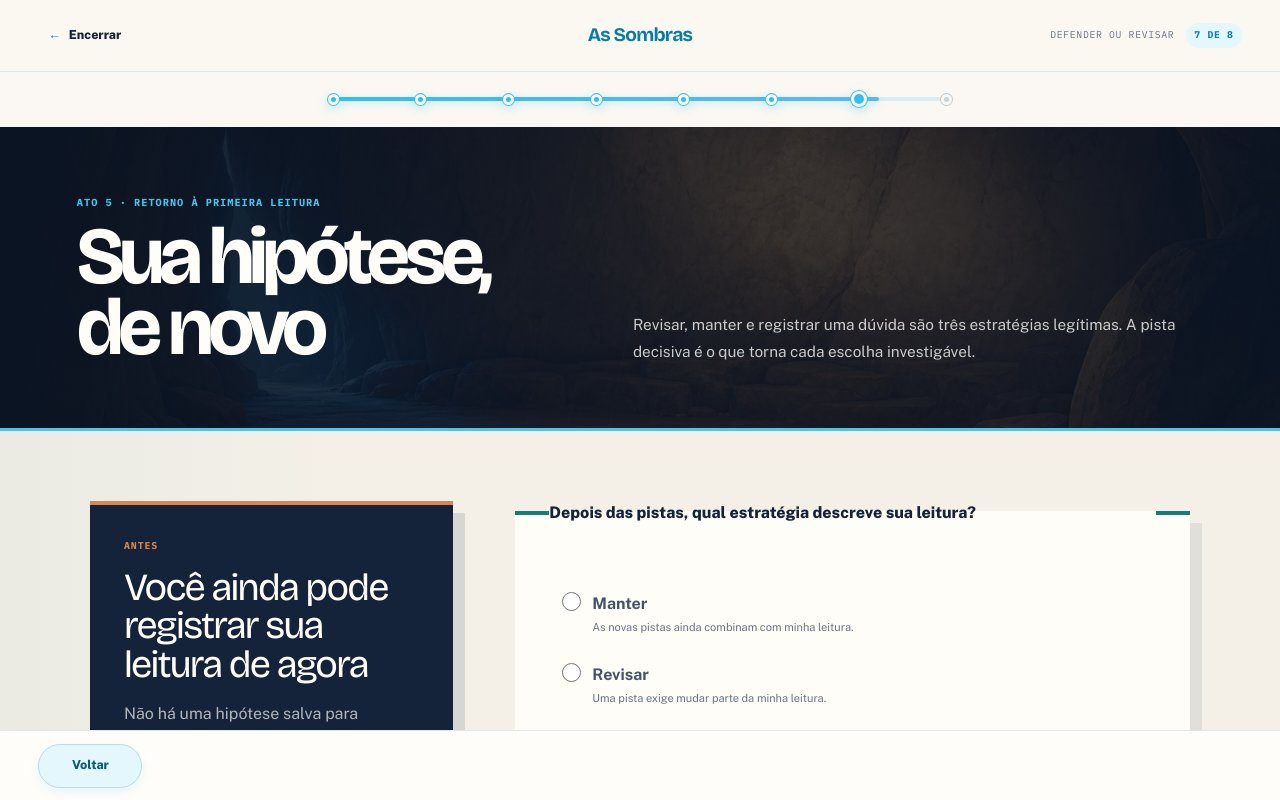
only offers revision clues the learner actually inspected
The width and height of the screenshot is (1280, 800).
Click the radio button labelled "Revisar" at (572, 673), box [562,663,581,682]
(page scrolled)
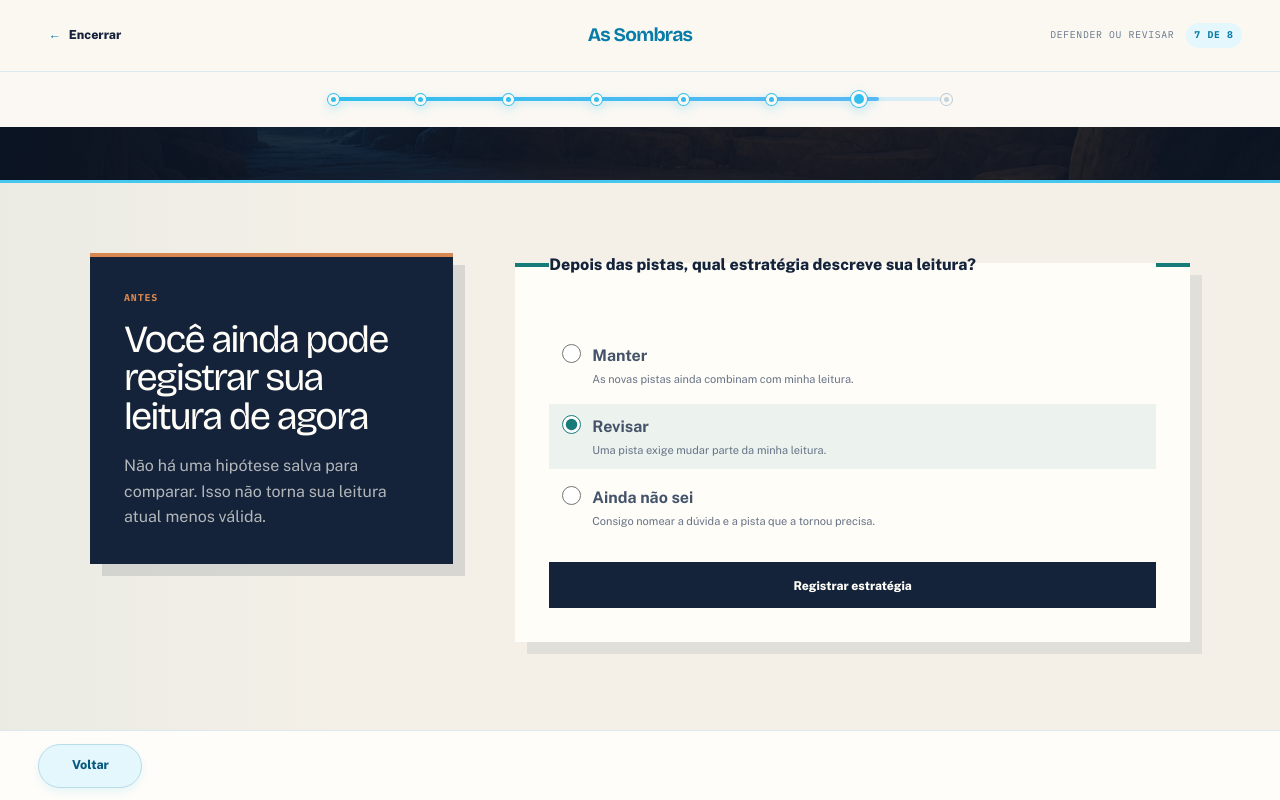
Click the button "Registrar estratégia" at (853, 585), box [549,562,1156,608]
(page scrolled)
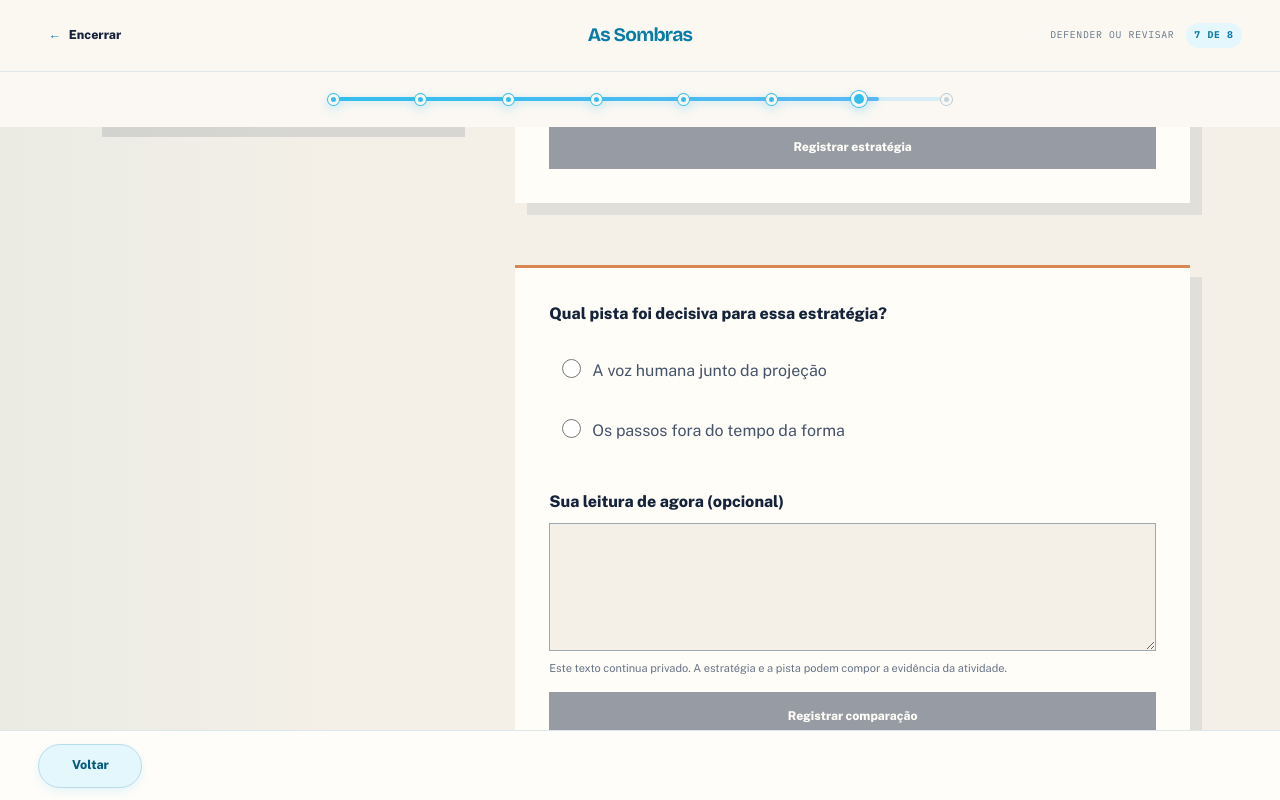
Check: the radio button labelled "A voz humana junto da projeção" is shown, box [562,359,581,378]
Check: the radio button labelled "Os passos fora do tempo da forma" is shown, box [562,419,581,438]
